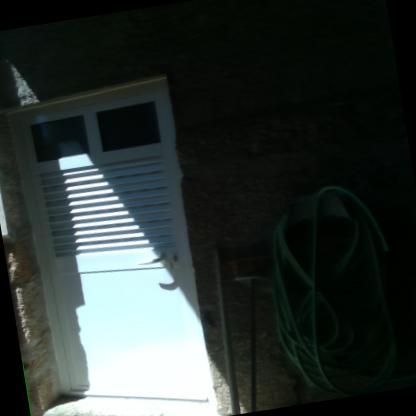closed: (0, 57, 224, 415)
